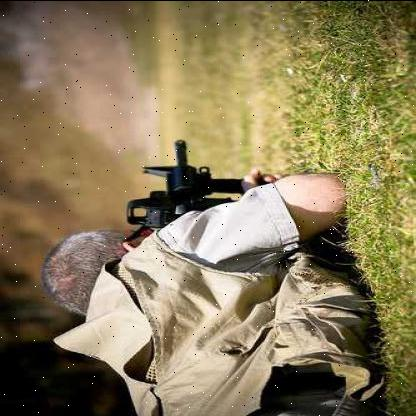rifle: (87, 120, 280, 239)
